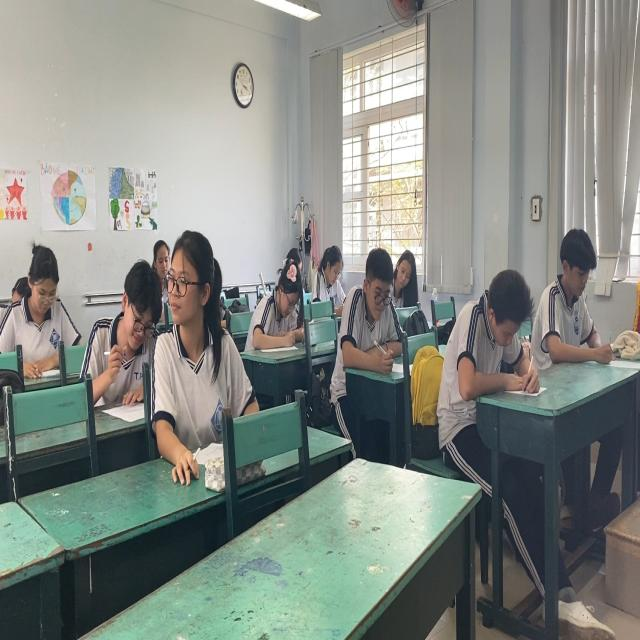cheating: (156, 229, 246, 412)
not_cheating: (446, 257, 542, 398), (8, 232, 84, 365), (240, 233, 318, 354), (95, 257, 163, 391), (547, 222, 605, 357), (343, 246, 404, 350), (311, 233, 350, 308), (393, 229, 422, 308)
